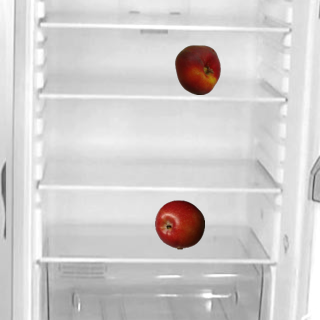Apple Braeburn: (154, 199, 204, 249)
Nectarine Flat: (172, 44, 222, 94)
